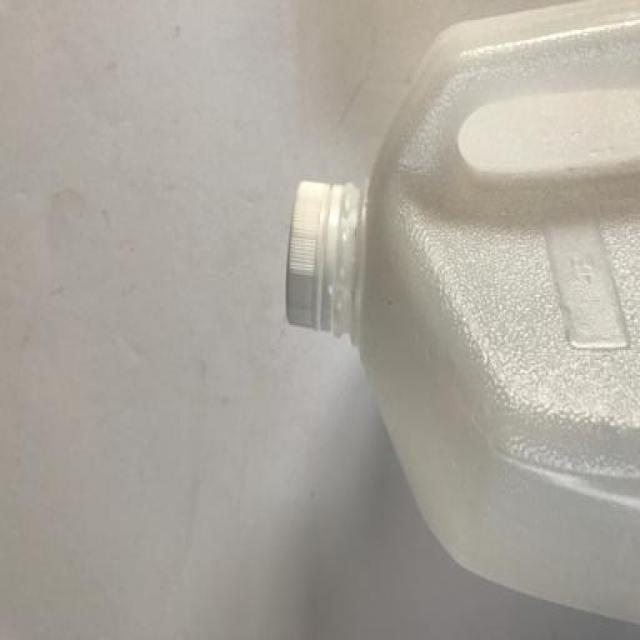plastic_bottle: (280, 6, 640, 640)
